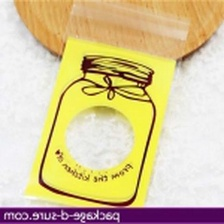snack: (14, 0, 196, 208)
